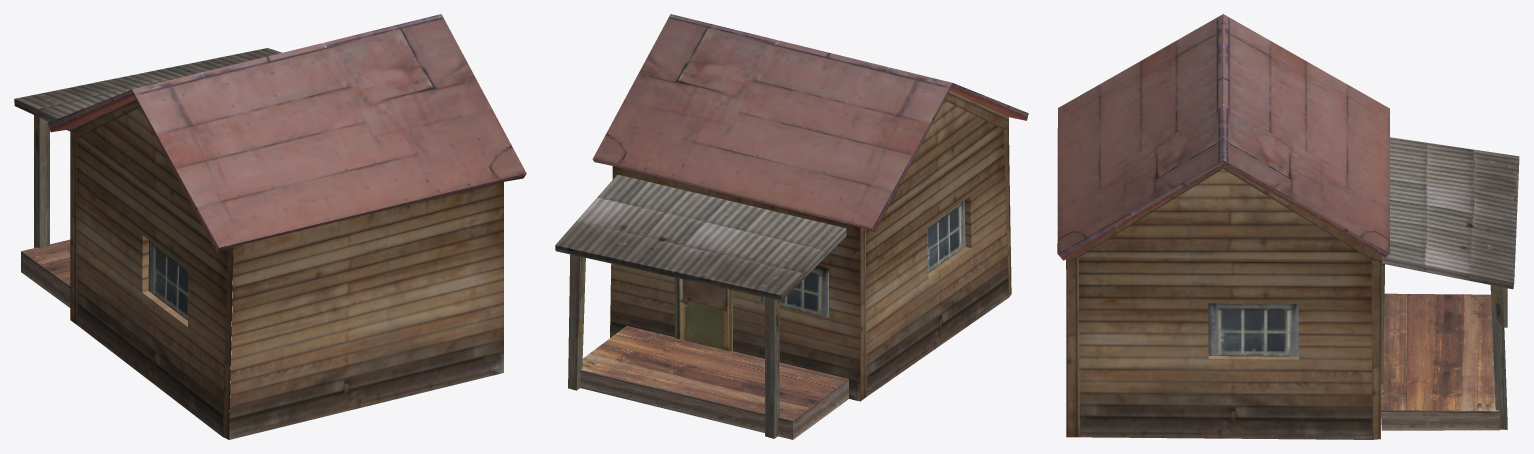
File: house03_add_elements_0.glb
3 renders of one model, left to right at view 1: azimuth 30°, elevation 25°; view 2: azimuth 150°, elevation 25°; view 3: azimuth 270°, elevation 25°, orthographic. The views are drawn at different scales.
Visible parts, largest first — view 1: house03_add_elements_0.003; view 2: house03_add_elements_0.003; view 3: house03_add_elements_0.003.
Part boxes in pixels (box(x1,y1,x2,y2)): house03_add_elements_0.003: box(14, 14, 526, 439); house03_add_elements_0.003: box(555, 14, 1028, 439); house03_add_elements_0.003: box(1057, 14, 1519, 439).
Bounding box in the file's own units: 4.49 × 4.1 × 6.
1 material, 1 textured.
